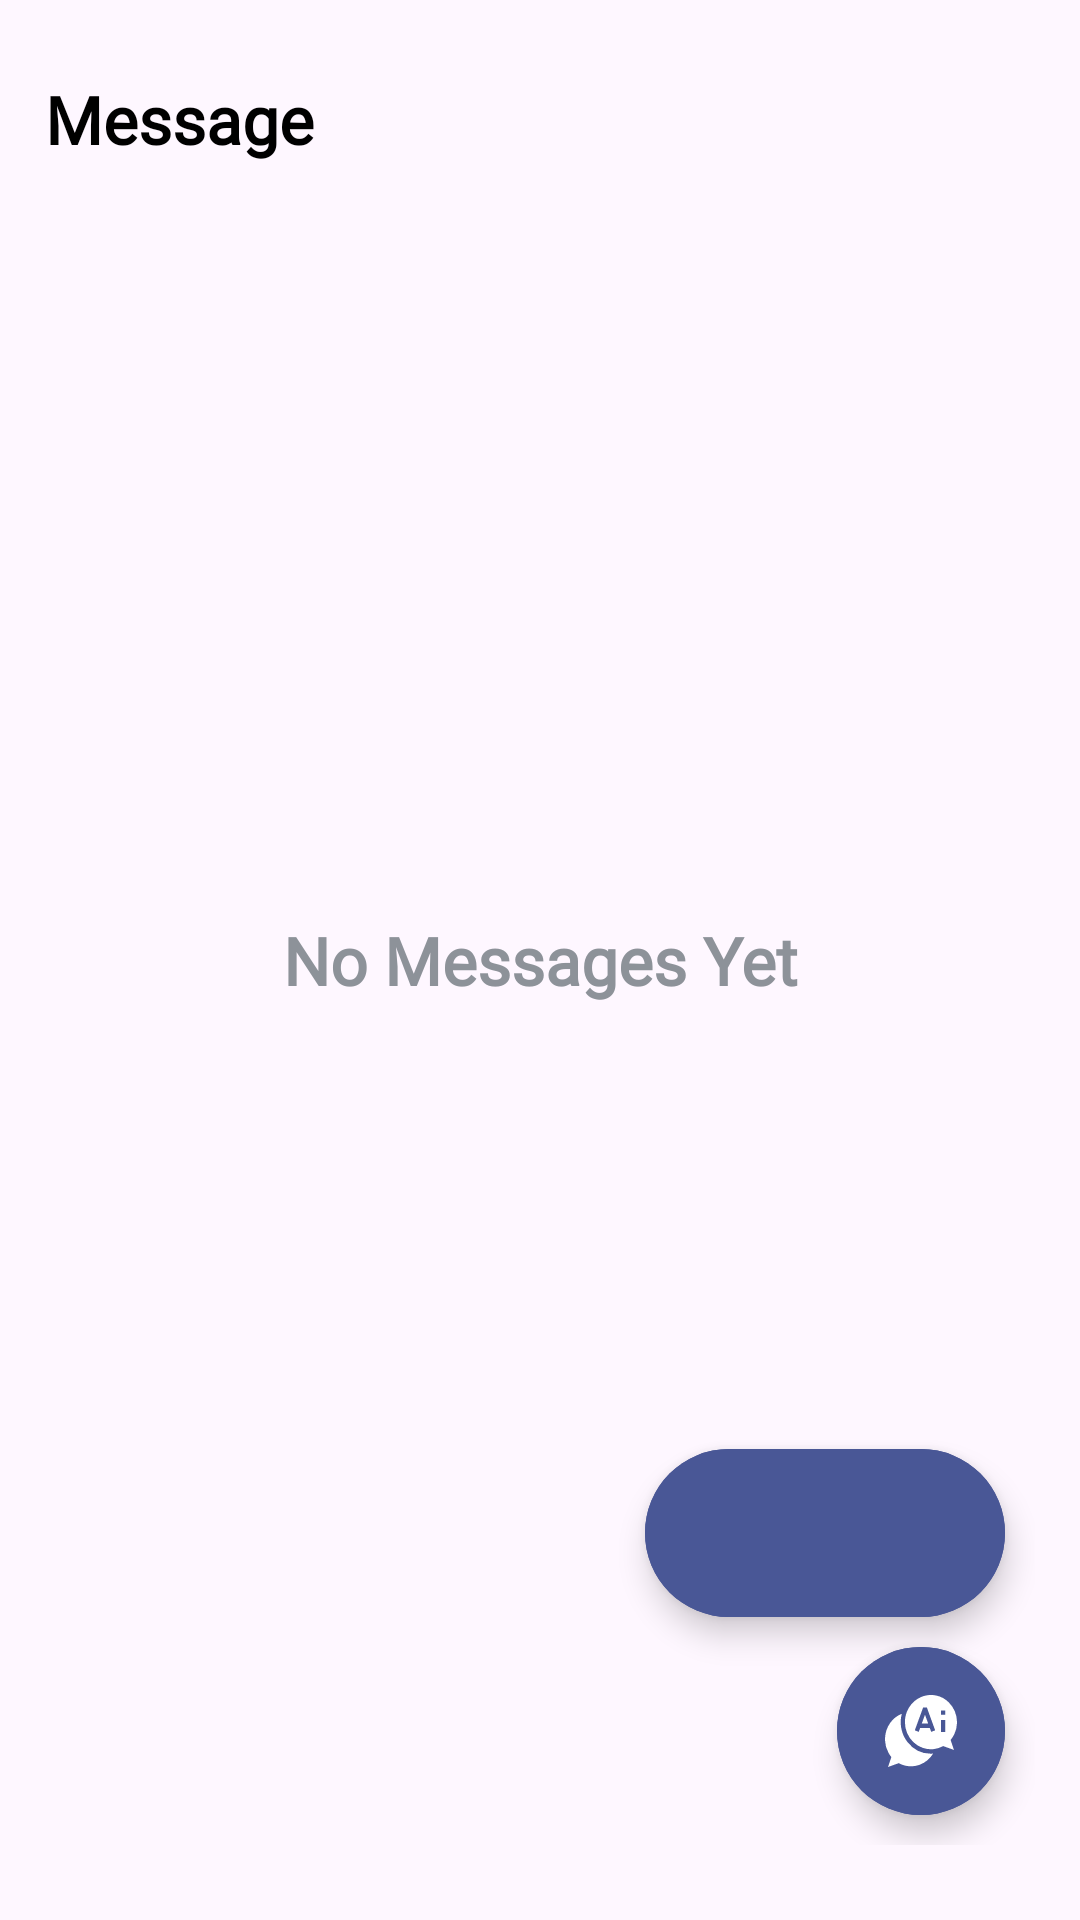

Icons on this 1080w x 1920h Android screen, each with the point to tap as point (x, y):
ai chat: point (921, 1731)
